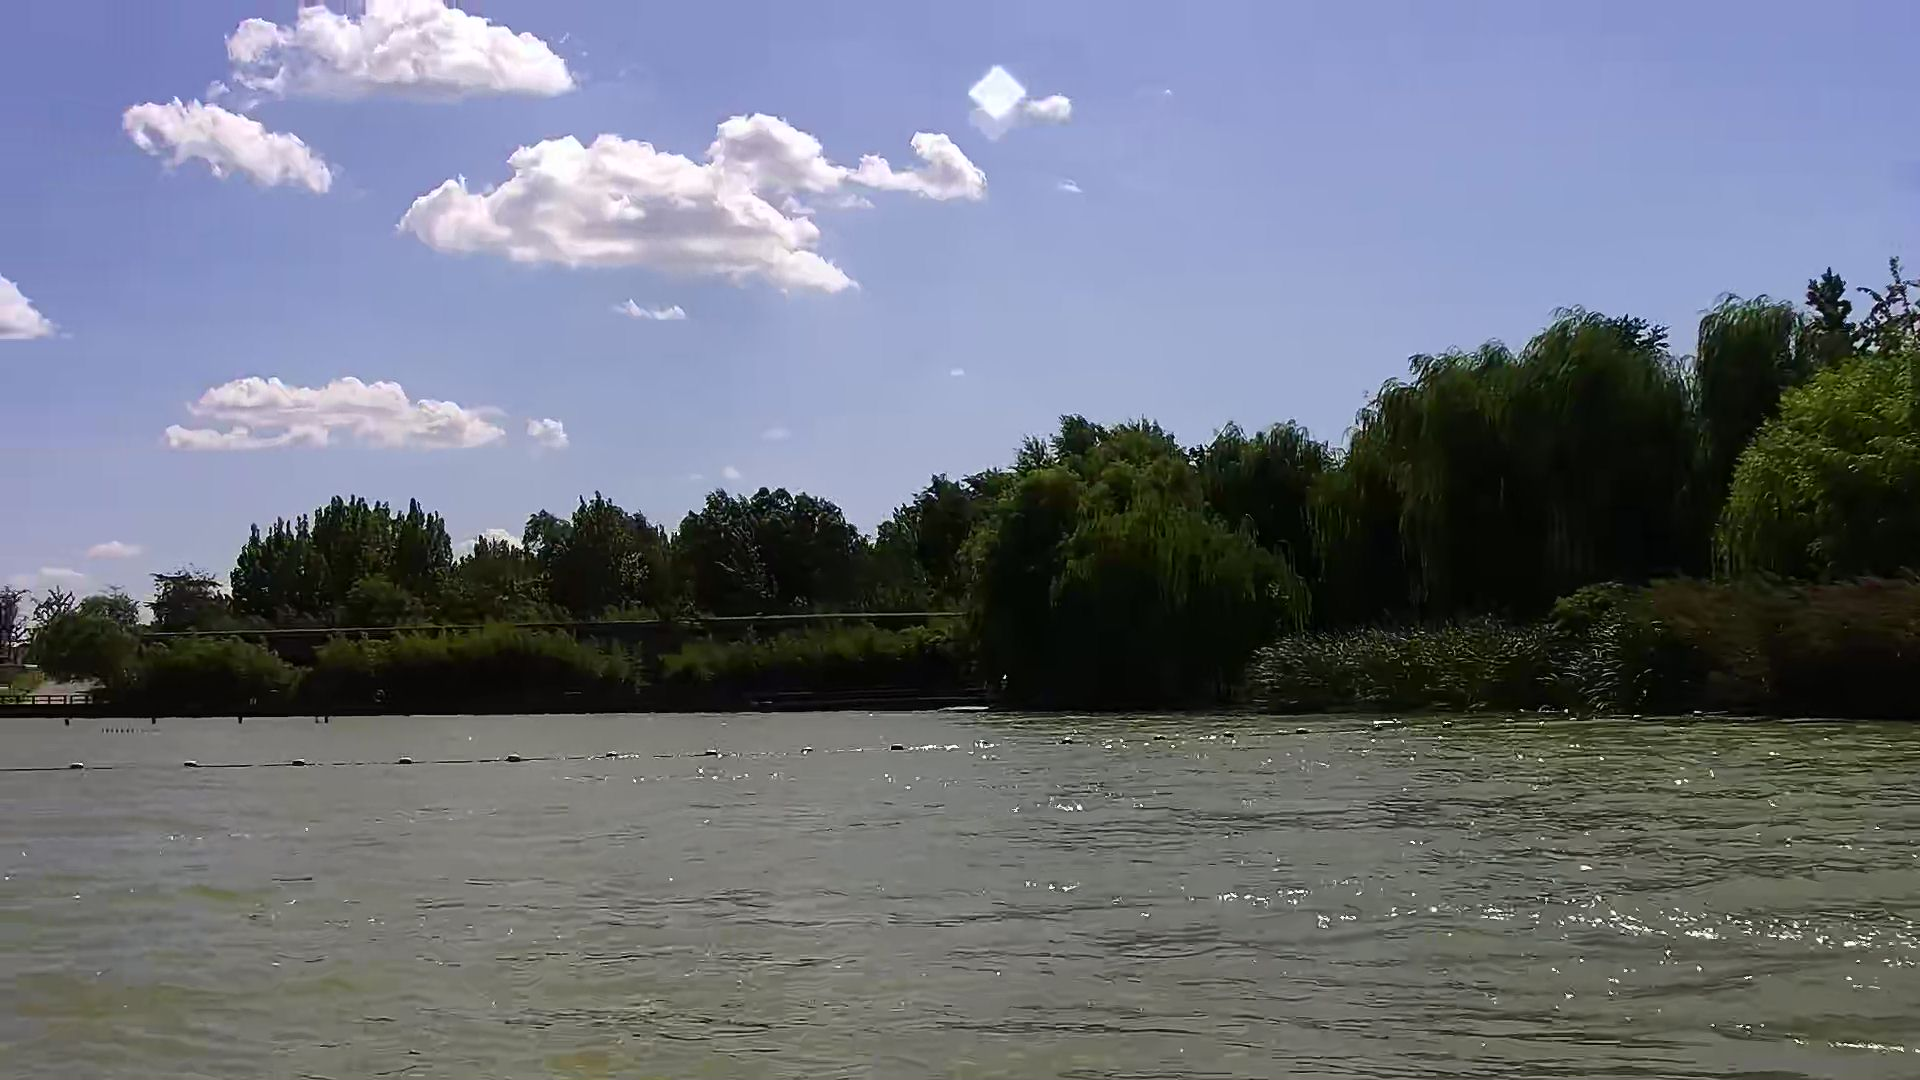ball: (284, 753, 314, 775), (181, 752, 207, 777), (388, 752, 421, 771), (498, 749, 529, 770), (62, 758, 90, 777)
